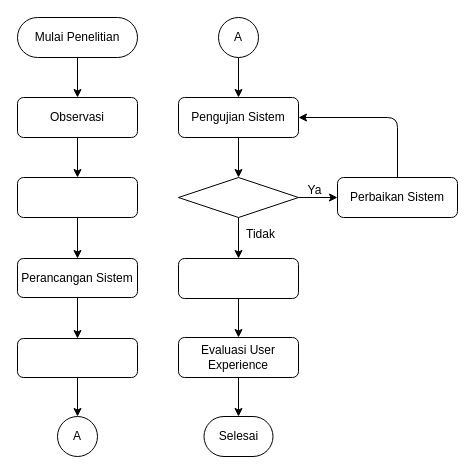
The diagram is 475 pixels wide and 474 high, and some of its shapes have lost their labels. The shapes that lost their labels are listed below. From the top down, each one's centre as x and y in pixels, then its label:
pixel 77 197: Studi Literatur
pixel 238 197: Ditemukan Error
pixel 238 278: Deploy Sistem
pixel 77 358: Pengembangan Sistem
